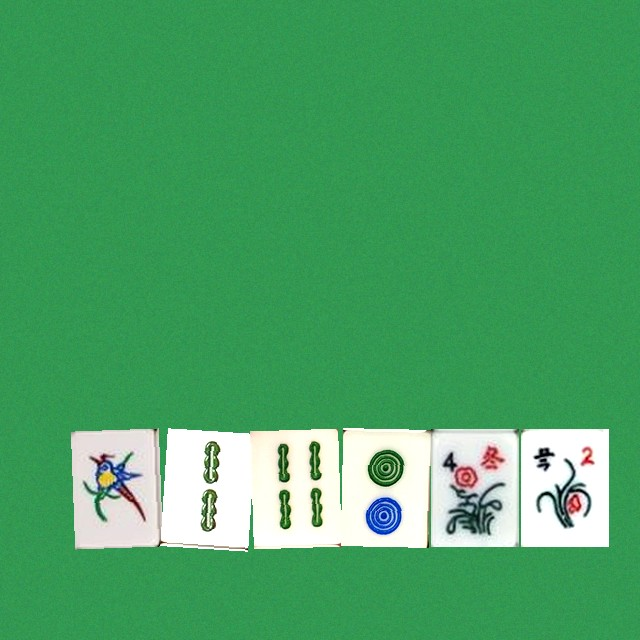tile: (70, 428, 158, 546), (160, 428, 248, 546), (250, 428, 338, 546), (340, 428, 428, 546), (430, 428, 518, 546), (520, 428, 608, 546)
